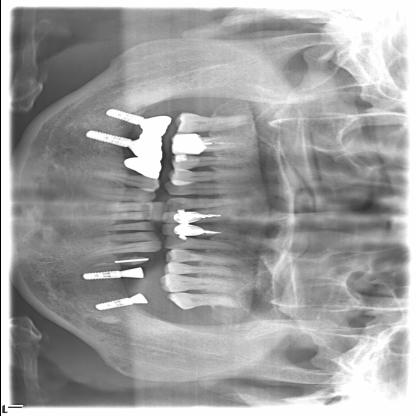ITI: (82, 127, 132, 151), (104, 104, 146, 127), (80, 266, 124, 284), (92, 295, 130, 315)
